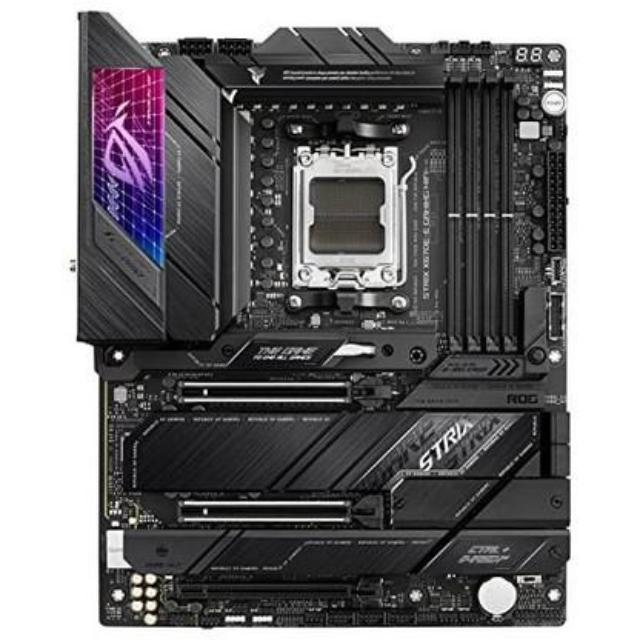Mainboard: (60, 11, 578, 631)
